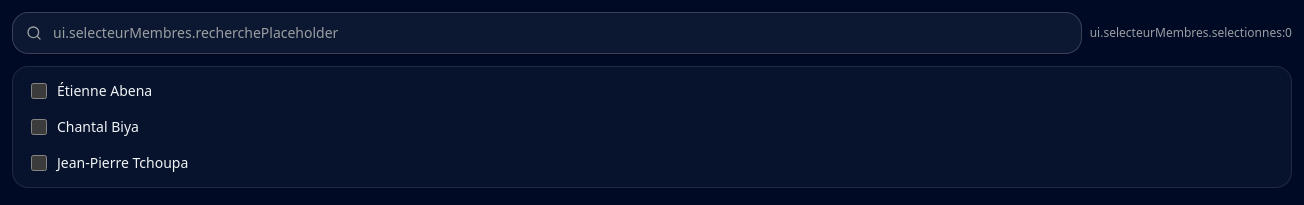
SelecteurMembres — recherche › le compteur « X sélectionné(s) » se met à jour
Expected: the text "ui.selecteurMembres.selectionnes:0" is shown, x1=1090 y1=25 x2=1292 y2=41
Click the checkbox labelled "Étienne Abena" at (39, 91), box x1=31 y1=83 x2=47 y2=99
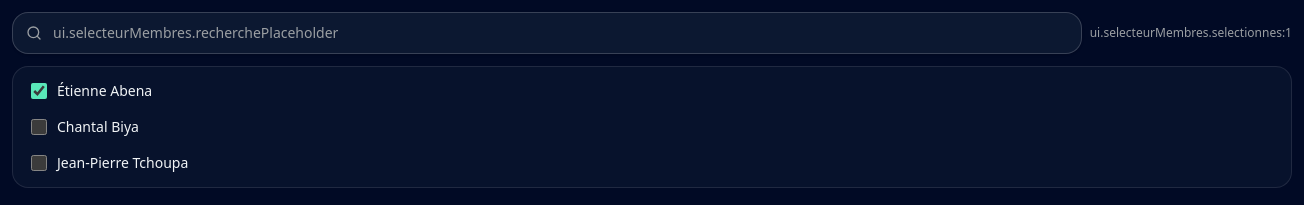
Expected: the text "ui.selecteurMembres.selectionnes:1" is shown, x1=1090 y1=25 x2=1292 y2=41
Click the checkbox labelled "Chantal Biya" at (39, 127), box x1=31 y1=119 x2=47 y2=135
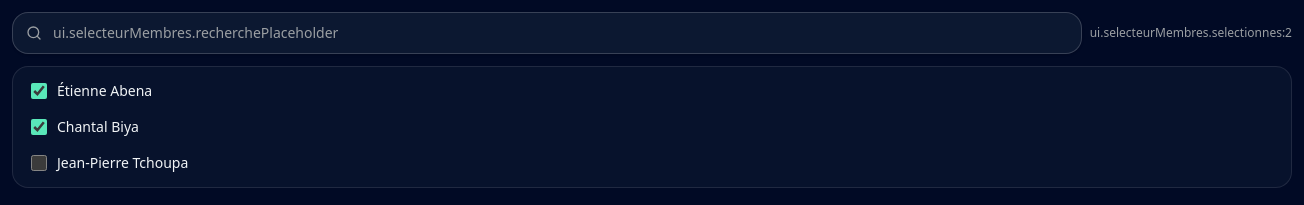
Expected: the text "ui.selecteurMembres.selectionnes:2" is shown, x1=1090 y1=25 x2=1292 y2=41
